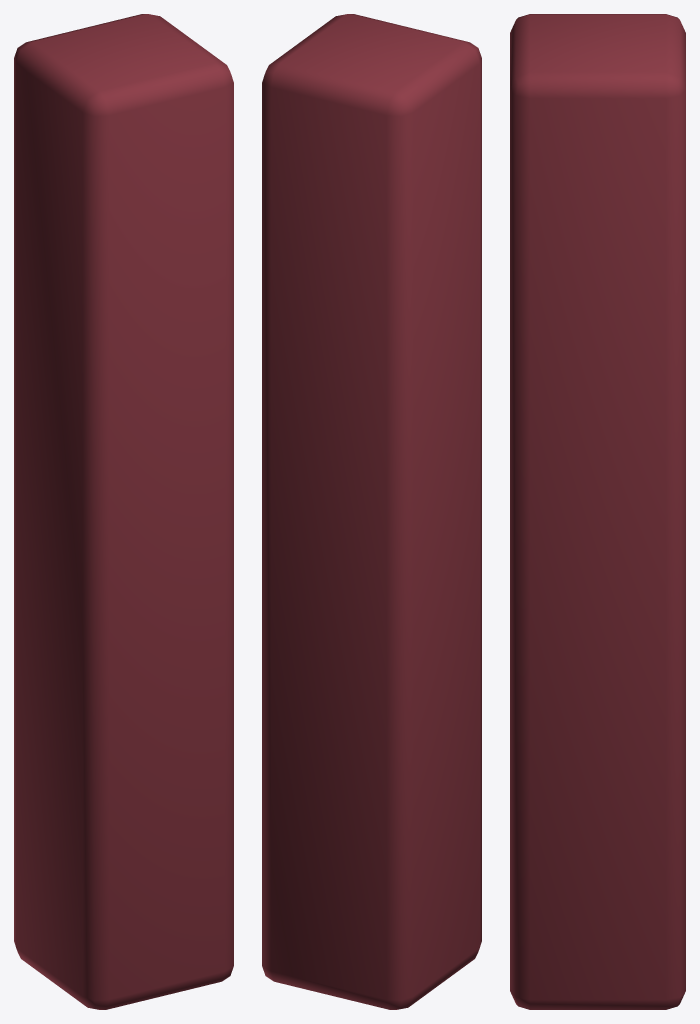
The model's file is FM_H_Doll_Arch_Pillar_Small_001.fbx.
3 views of the same model, side by side, from view 1: azimuth 30°, elevation 25°; view 2: azimuth 150°, elevation 25°; view 3: azimuth 270°, elevation 25° (orthographic).
Parts seen in each view (by area): view 1: H_Doll_Arch_Pillar_001.001; view 2: H_Doll_Arch_Pillar_001.001; view 3: H_Doll_Arch_Pillar_001.001.
Part boxes in pixels (x1=…): H_Doll_Arch_Pillar_001.001: x1=14, y1=14, x2=233, y2=1009; H_Doll_Arch_Pillar_001.001: x1=262, y1=14, x2=481, y2=1009; H_Doll_Arch_Pillar_001.001: x1=510, y1=14, x2=685, y2=1009.
Bounding box in the file's own units: 0.2392 × 1.41 × 0.2392.
